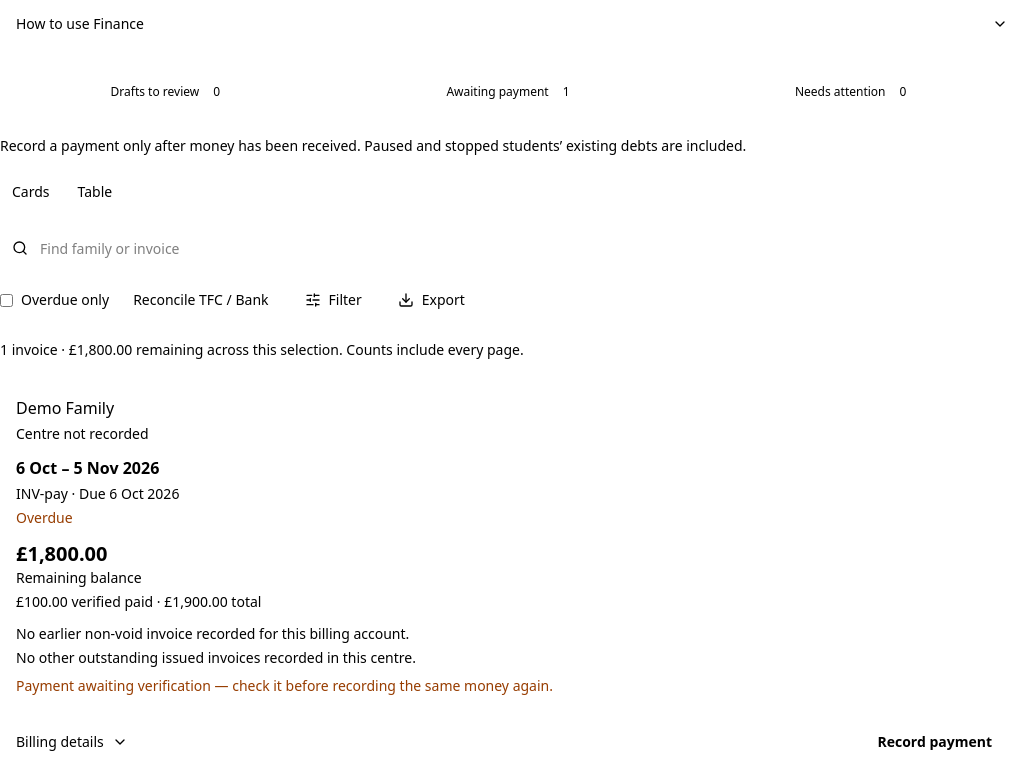
Test: daily finance workflow › uses verified unreversed money for remaining balance and warns about pending payment
expect the text "£1,800.00" is shown: met, box [16, 540, 108, 567]
expect the text "Payment awaiting verification" is shown: met, box [16, 676, 553, 695]
Click the button with aria-label "Record payment for INV-pay" at {"x": 935, "y": 742}, box [862, 720, 1008, 764]
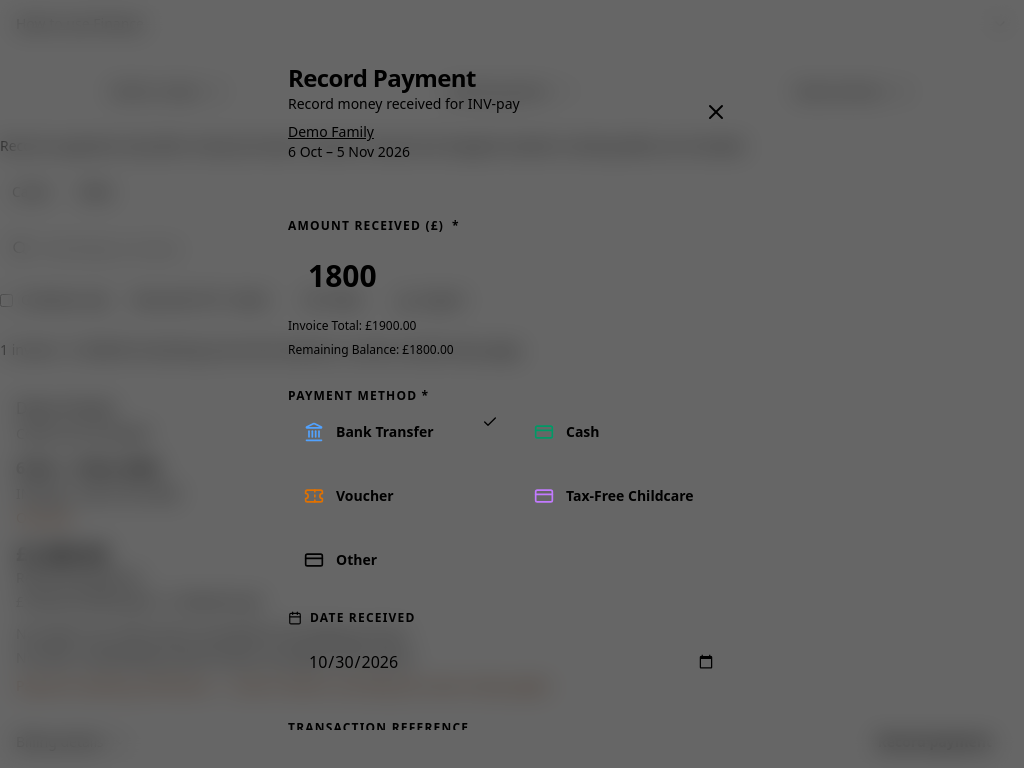
expect the dialog shows "1800": met, box [409, 341, 454, 358]
